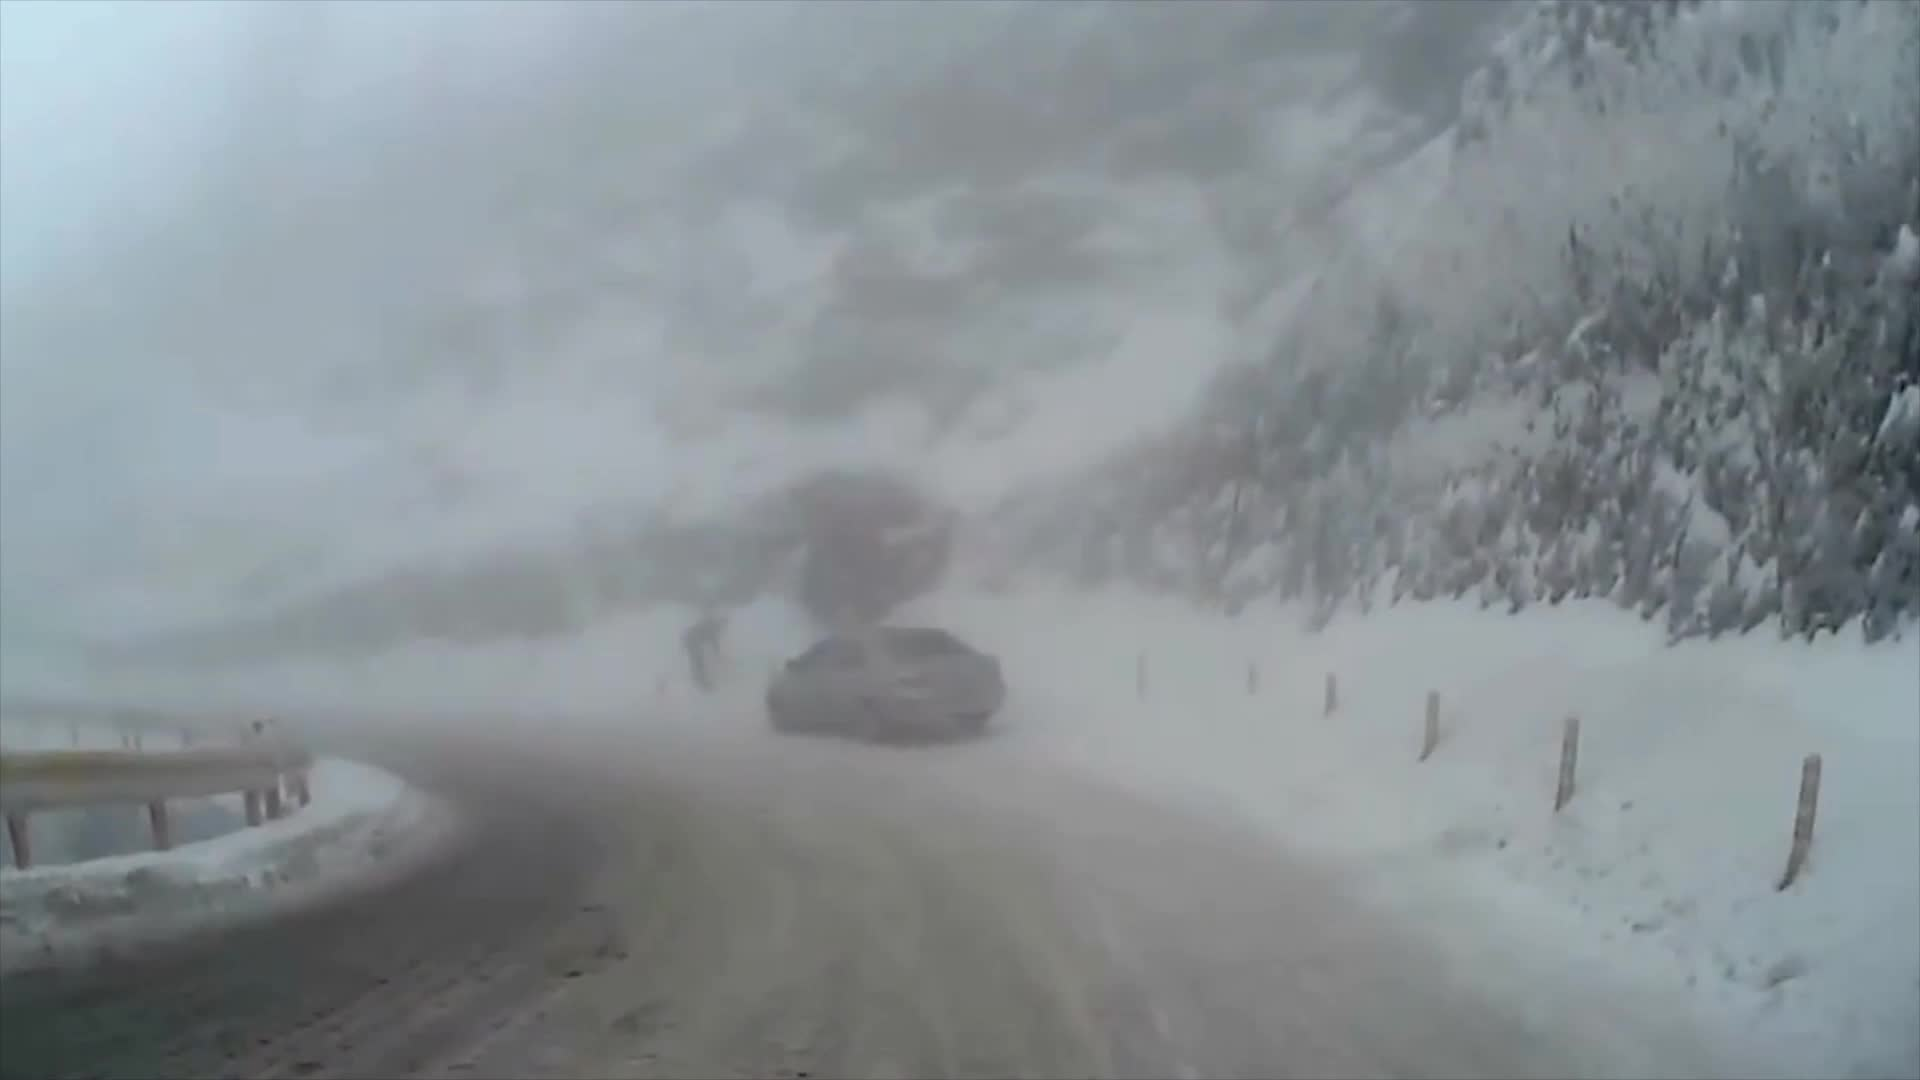pedestrian: (687, 615, 730, 697)
vehicle: (769, 631, 1009, 753)
